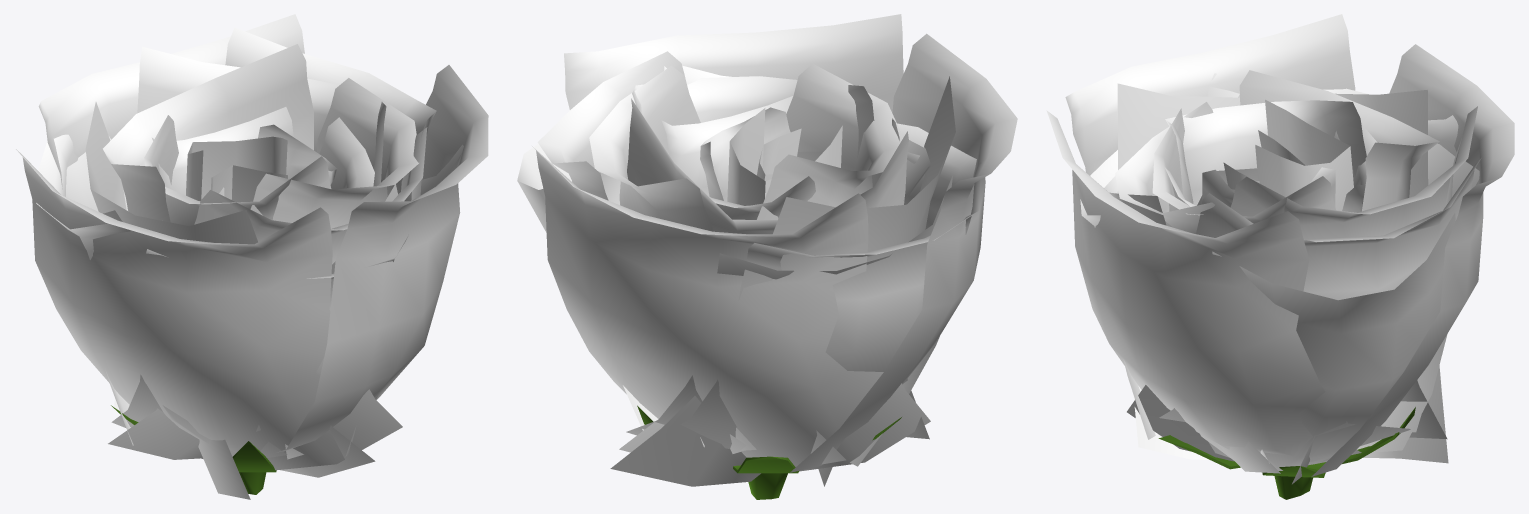
The model's file is Rose_1.fbx.
3 renders of one model, left to right at view 1: azimuth 30°, elevation 25°; view 2: azimuth 150°, elevation 25°; view 3: azimuth 270°, elevation 25°, orthographic. The views are drawn at different scales.
Visible parts, largest first — view 1: Plane.004; view 2: Plane.004; view 3: Plane.004.
Boxes of the visible parts, x1,y1,x2,y2 form: Plane.004: [16, 14, 488, 499]; Plane.004: [517, 14, 1017, 499]; Plane.004: [1046, 14, 1514, 499].
Size of the model in its own units: 85.59 by 76.59 by 81.75.
